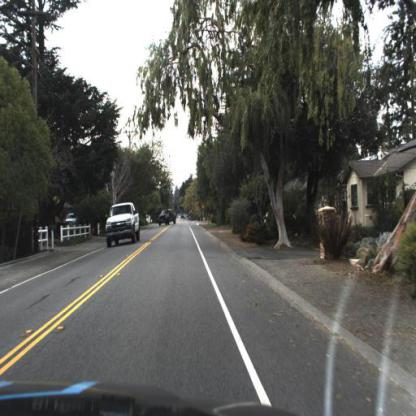car: (103, 201, 144, 249), (155, 207, 183, 228)
